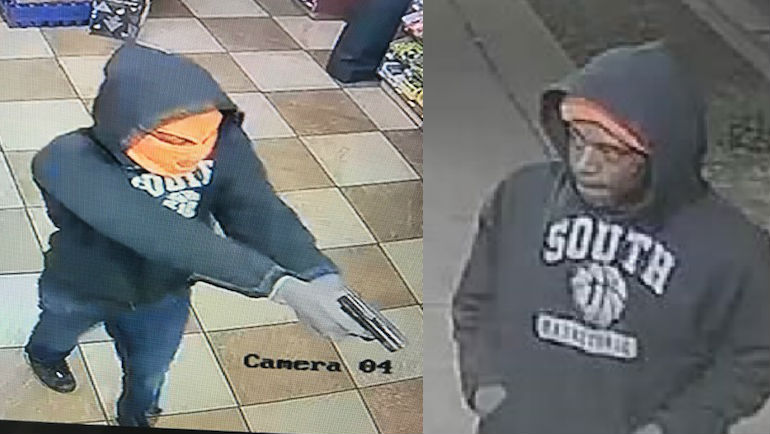gun: (319, 277, 416, 367)
